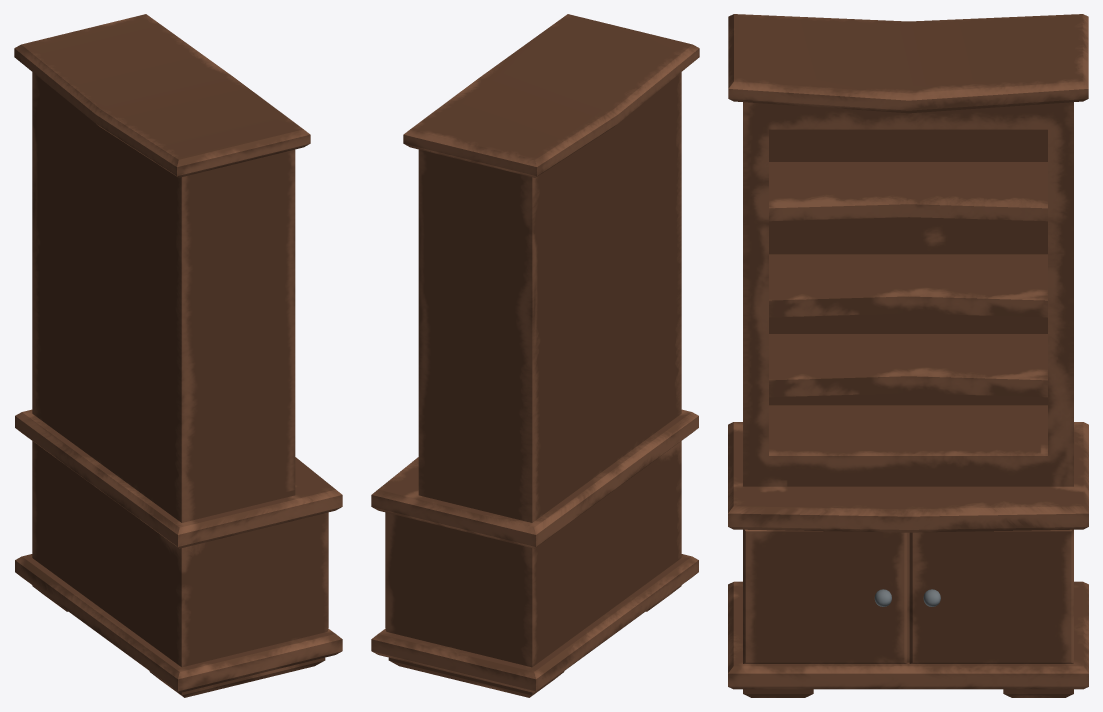
File: bookshelf.glb
The picture shows the model from 3 angles, left to right: view 1: azimuth 30°, elevation 25°; view 2: azimuth 150°, elevation 25°; view 3: azimuth 270°, elevation 25°; orthographic projection. The views are drawn at different scales.
Parts seen in each view (by area): view 1: Object_3; view 2: Object_3; view 3: Object_3.
Boxes of the visible parts, x1=… form: Object_3: x1=14, y1=14, x2=342, y2=697; Object_3: x1=371, y1=14, x2=699, y2=697; Object_3: x1=728, y1=14, x2=1088, y2=697.
Bounding box in the file's own units: 20.04 × 60.57 × 32.68.
1 material, 1 textured.
